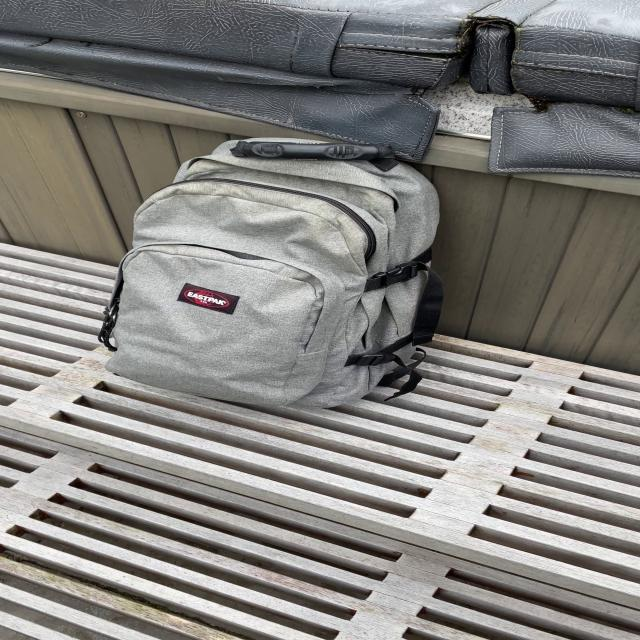backpack: (94, 127, 458, 412)
